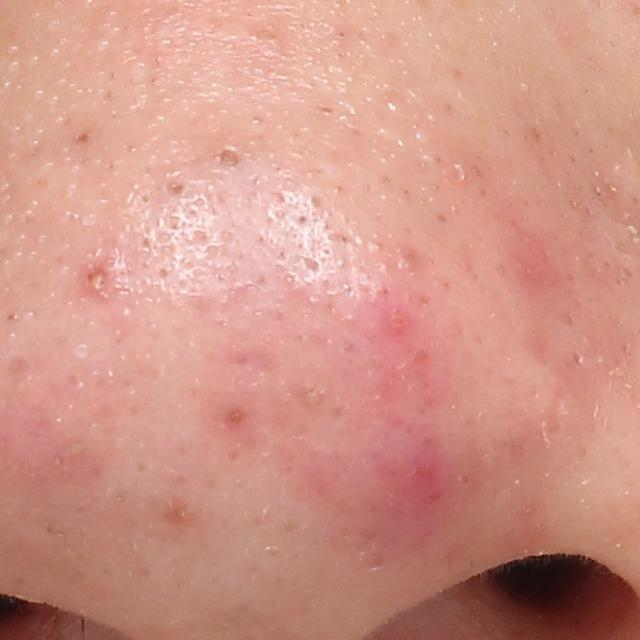comedo: (212, 142, 244, 172), (72, 129, 93, 145)
papule: (376, 304, 414, 335), (218, 400, 252, 430)
pustule: (74, 250, 118, 303)
